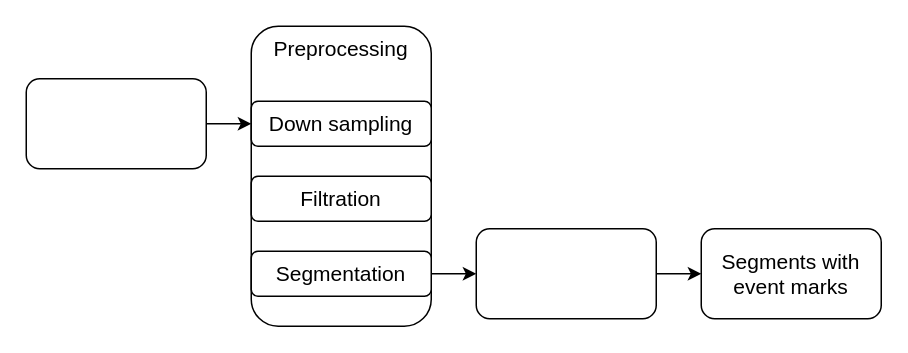
This 908x353 diagram has some shape labels left out. The shapes that lost their labels are listed below. From the top down, each one's centre as x and y in pixels, then its label:
At (115,123): "Raw data [Flow, SpO 2 ]".
At (565,273): "Neural network".
